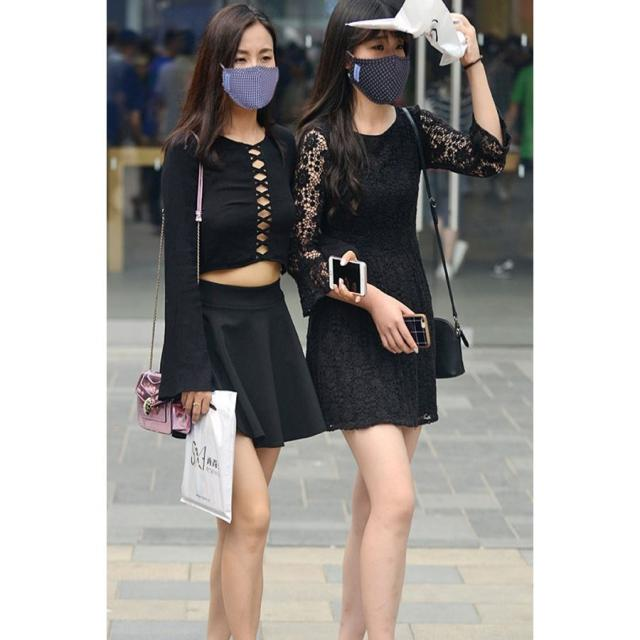mask: (354, 23, 408, 100), (224, 27, 276, 106)
